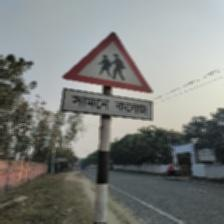College-in-front: (46, 30, 181, 139)
